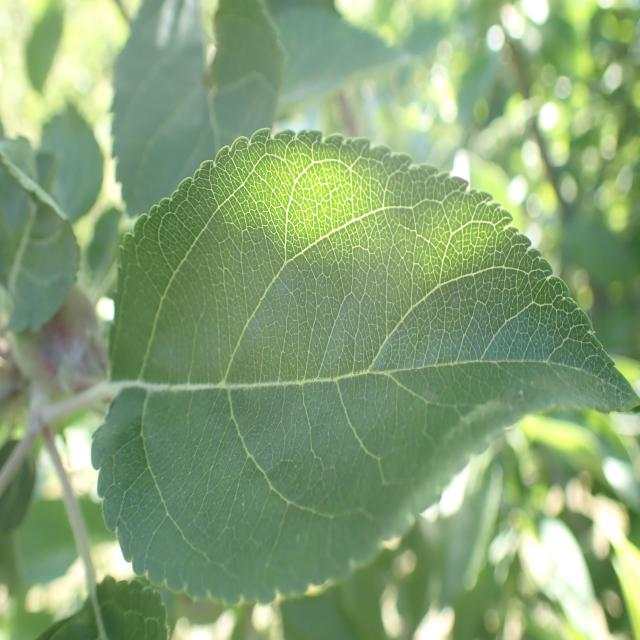healthy: (91, 128, 640, 610), (0, 136, 81, 335), (34, 574, 171, 640)
